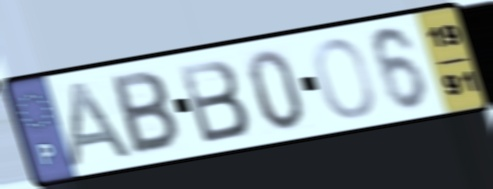0: (246, 45, 308, 135)
6: (370, 23, 432, 114)
A: (66, 78, 139, 171)
B: (174, 55, 252, 146), (108, 68, 183, 159)
O: (311, 35, 378, 121)
